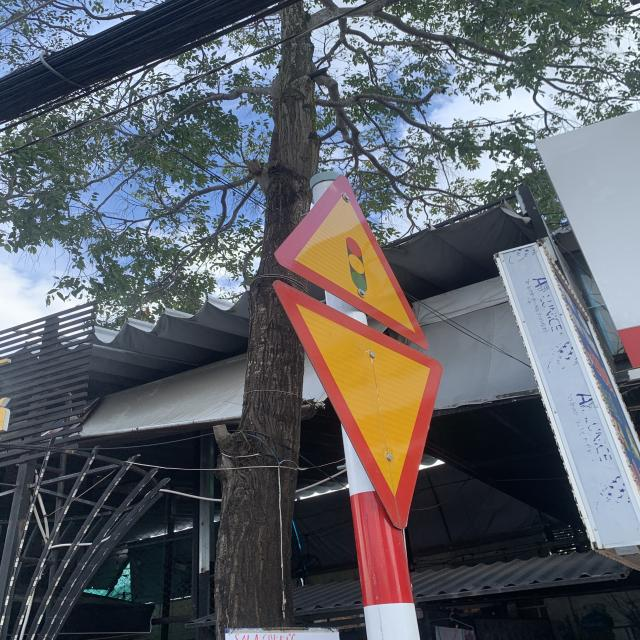Duong_Co_Go_Giam_Toc: (268, 173, 431, 346)
Gioi_Han_Toc_Do_25: (265, 274, 442, 528)
